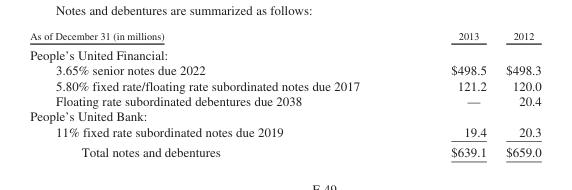table: (29, 29, 540, 158)
table column: (29, 29, 404, 158), (404, 29, 495, 158), (495, 29, 540, 158)
table column header: (29, 29, 540, 44)
table projected row header: (29, 44, 540, 62), (29, 108, 540, 123)
table row: (29, 44, 540, 62), (29, 123, 540, 141), (29, 141, 540, 158), (29, 92, 540, 108), (29, 29, 540, 44), (29, 62, 540, 77), (29, 77, 540, 92), (29, 108, 540, 123)
